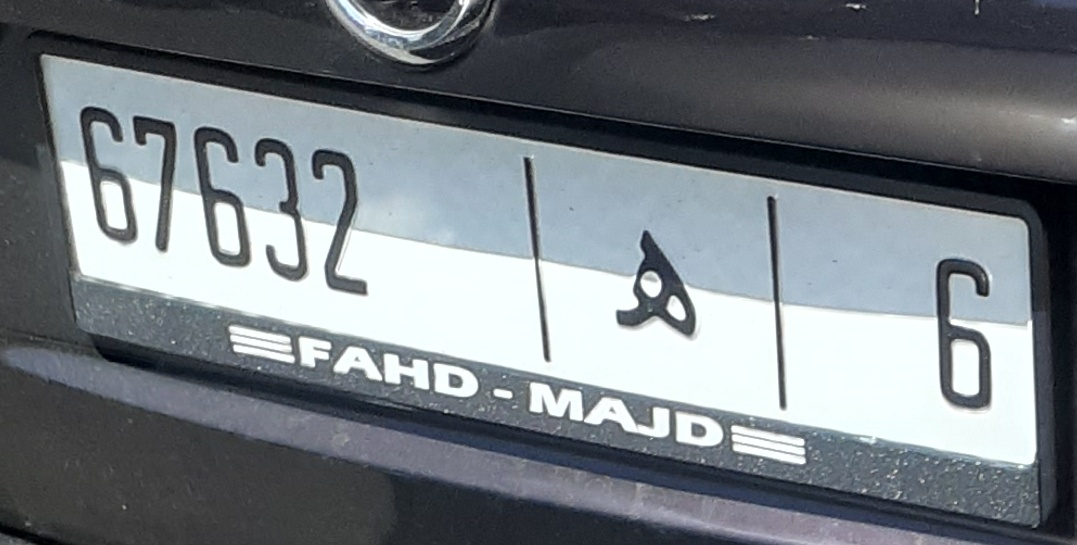2: (308, 146, 375, 292)
3: (246, 127, 310, 281)
6: (929, 240, 1009, 424), (71, 89, 138, 253), (192, 121, 251, 265)
7: (132, 103, 186, 254)
h: (602, 218, 708, 350)
